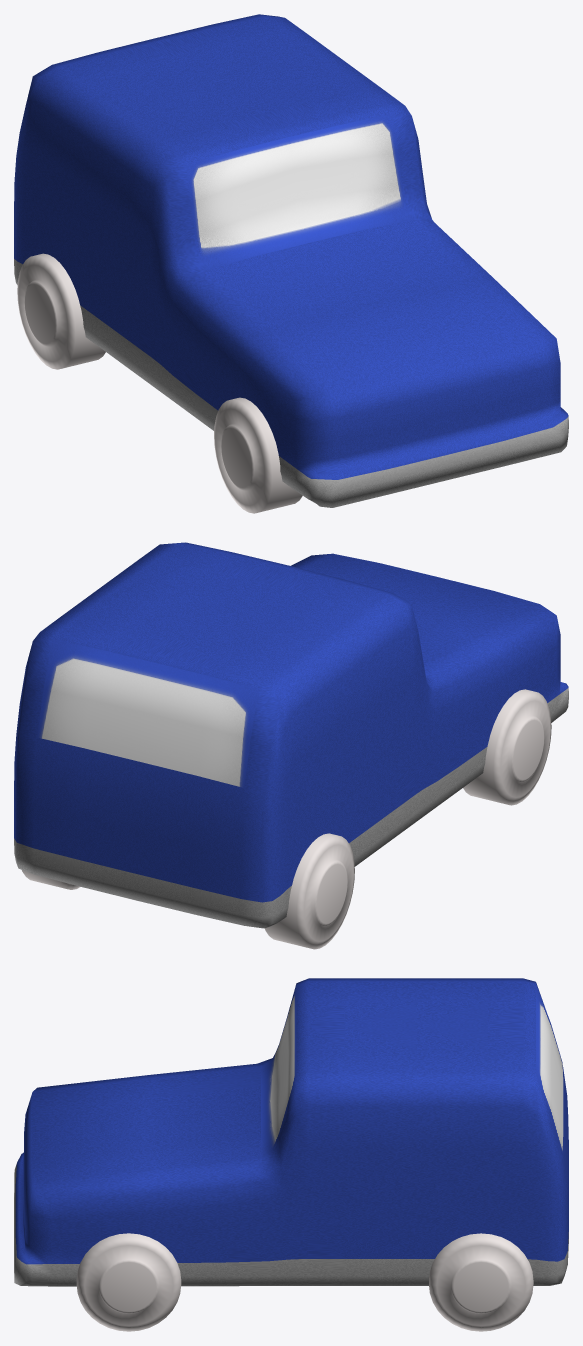
The model's file is PlayerCar.fbx.
3 renders of one model, top to bottom at view 1: azimuth 30°, elevation 25°; view 2: azimuth 150°, elevation 25°; view 3: azimuth 270°, elevation 25°, orthographic. The views are drawn at different scales.
Visible parts, largest first — view 1: Car, Wheels, Wheels.001; view 2: Car, Wheels.001, Wheels; view 3: Car, Wheels, Wheels.001.
Part boxes in pixels (left/top/right/bottom): Car: left=14, top=14, right=568, bottom=507; Wheels: left=214, top=397, right=302, bottom=513; Wheels.001: left=17, top=253, right=105, bottom=369; Car: left=14, top=542, right=568, bottom=928; Wheels.001: left=22, top=833, right=354, bottom=949; Wheels: left=463, top=689, right=551, bottom=805; Car: left=14, top=978, right=568, bottom=1286; Wheels: left=76, top=1233, right=181, bottom=1331; Wheels.001: left=429, top=1233, right=533, bottom=1331.
Size of the model in its own units: 222 by 198 by 407.
